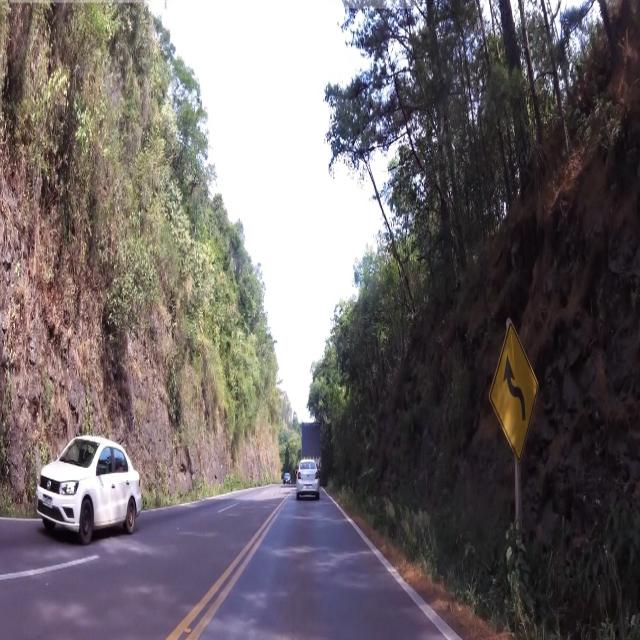A-4a: (486, 315, 543, 464)
